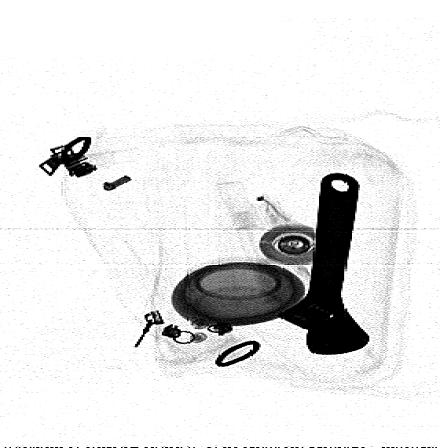Wrench: (276, 169, 369, 356)
